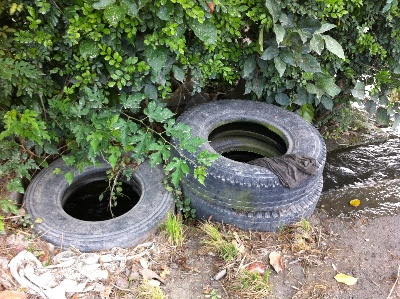tire: (19, 145, 177, 262), (169, 96, 328, 211)
